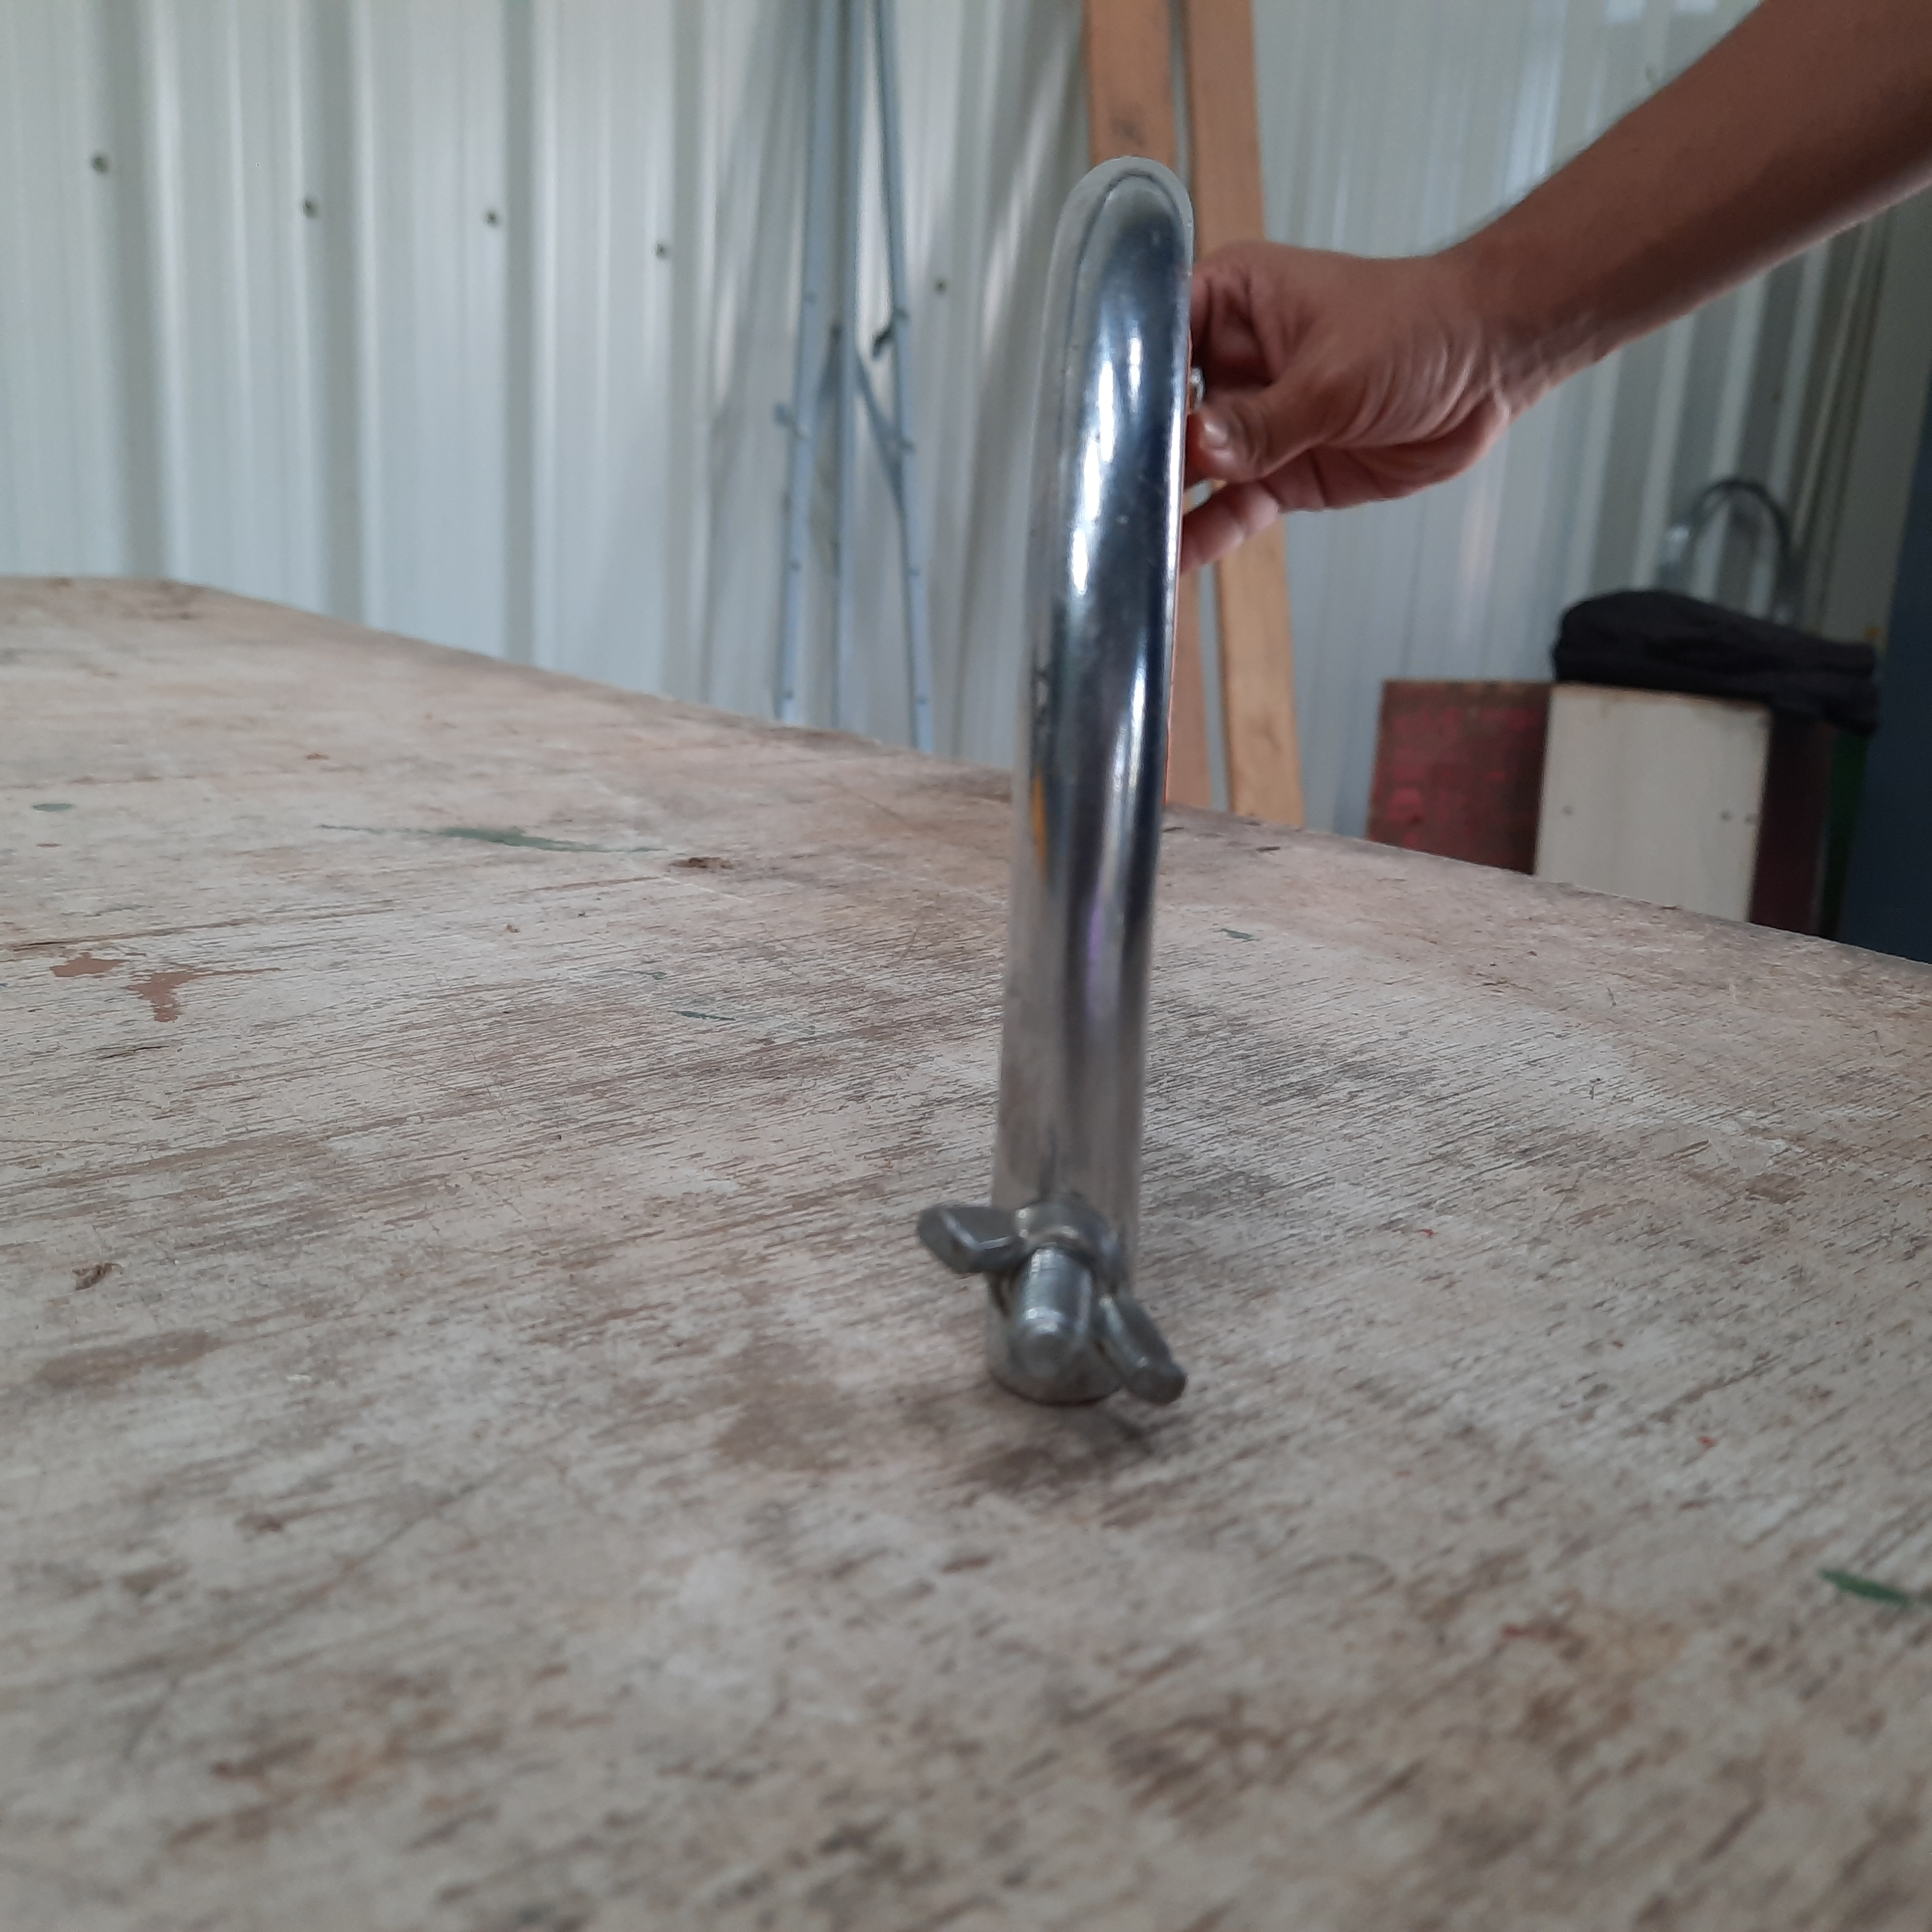Hexaframe: (915, 90, 1302, 1568)
